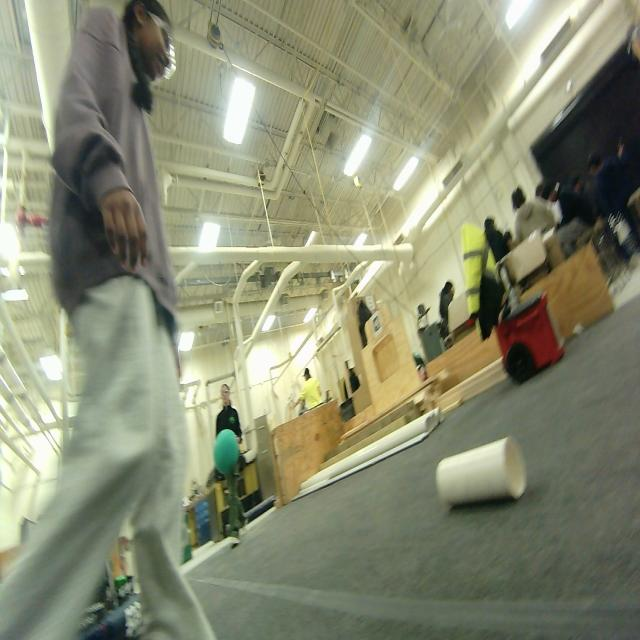coral: (435, 436, 527, 509)
